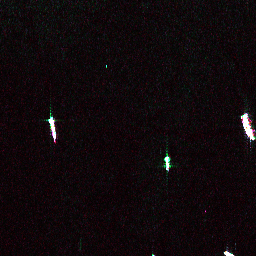ship: (238, 111, 255, 142), (46, 115, 59, 141), (163, 155, 171, 172), (221, 247, 233, 256)
